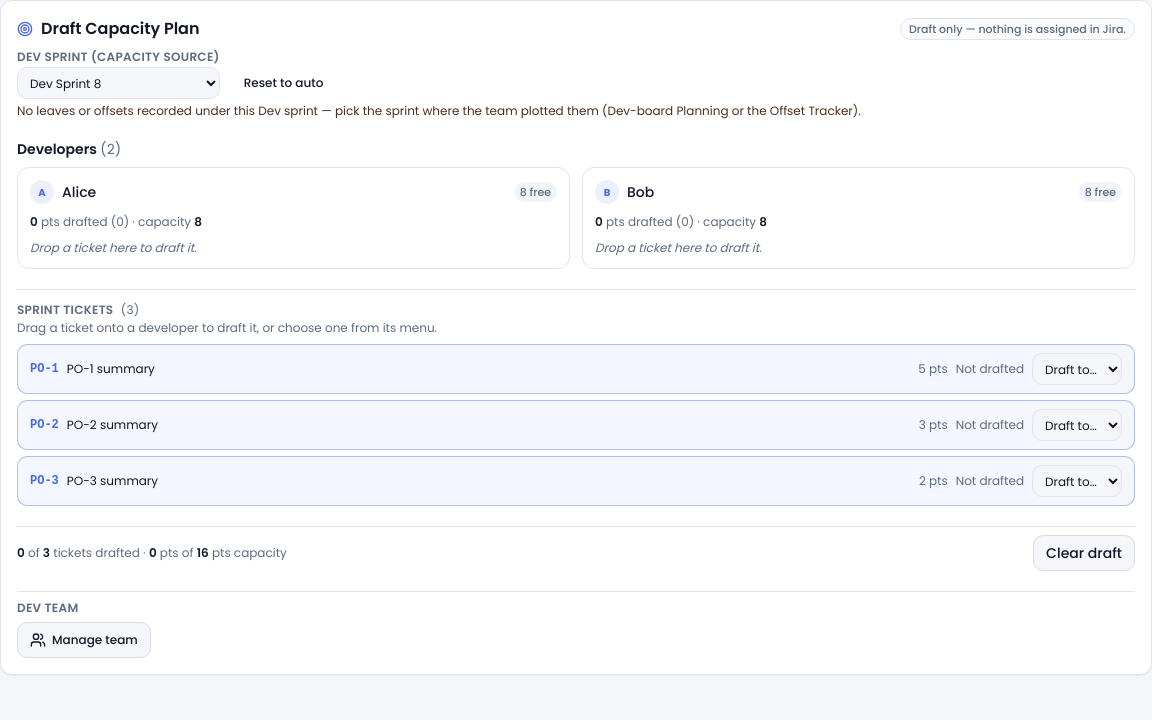
Test: DraftPlanCard — mutation error › shows an inline aria-live error and rolls back when setDraftPlan rejects
Expected: the link with aria-label "Open PO-1 in Jira" is shown, left=30, top=361, right=59, bottom=377
Select "Alice" in the dropdown named "Draft PO-1 to a developer" at {"x": 1077, "y": 369}, box left=1032, top=353, right=1122, bottom=385
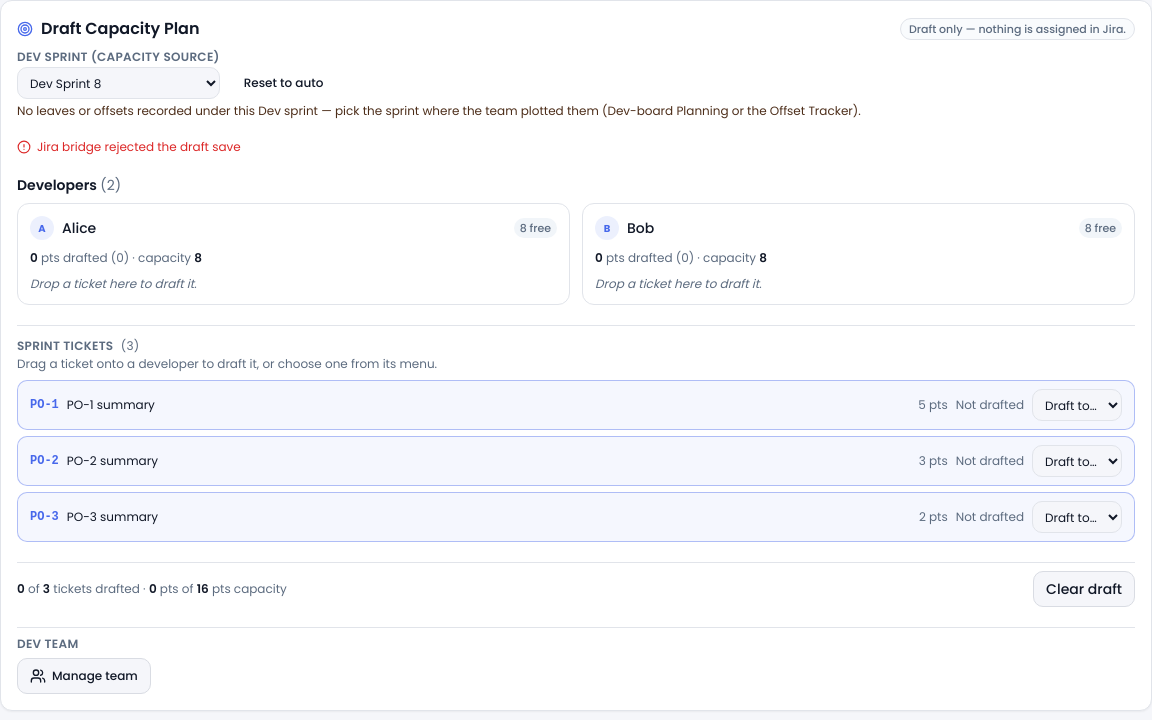
Expected: the text "Not drafted" in the row of "PO-1 summary" is shown, left=956, top=396, right=1024, bottom=413
Expected: the text "Jira bridge rejected the draft save" is shown, left=17, top=138, right=241, bottom=155
